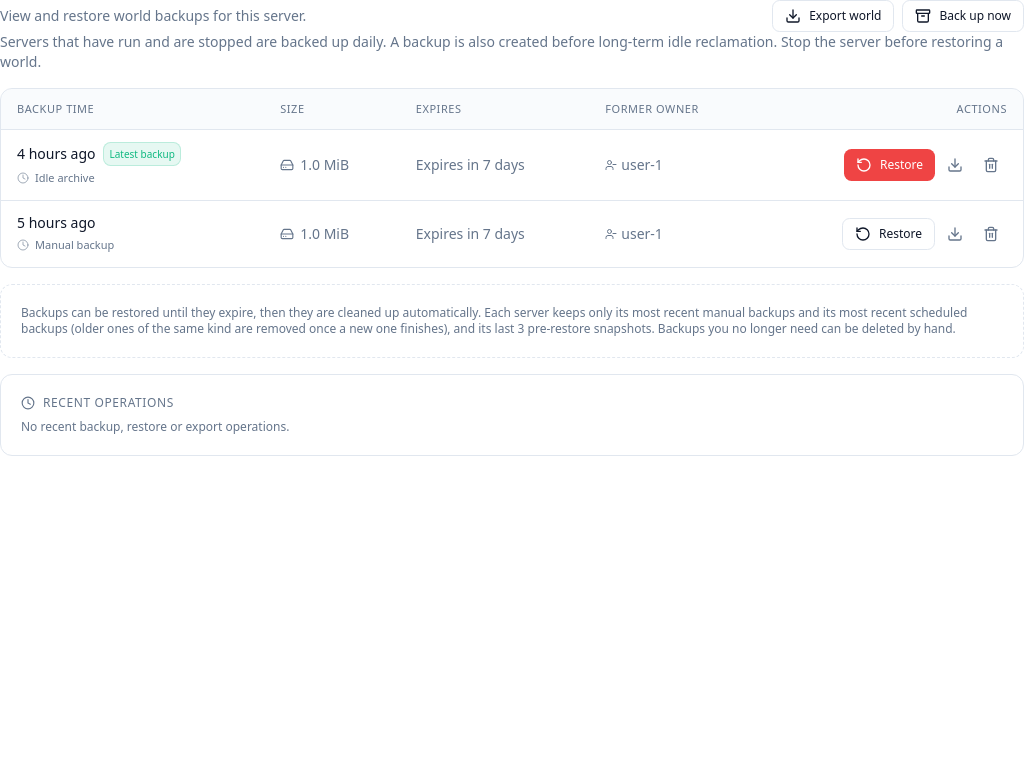
ServerBackups delete › warns that a inactive_15d archive may be the world's only copy
The image size is (1024, 768).
Expected: the text "4 hours ago" is shown, [17,144,96,164]
Click the button named "Delete backup" in the row of "4 hours ago" at (991, 165), box [975,149,1007,181]
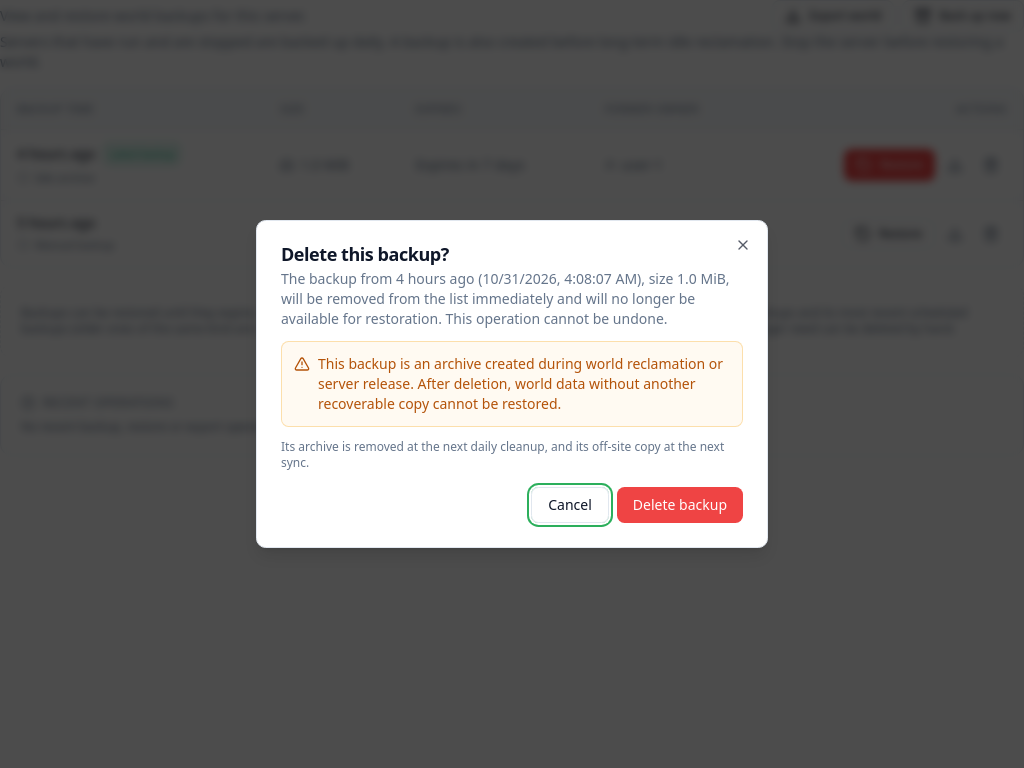
Result: the dialog is shown at [256,220,768,548]
Result: the text "This backup is an archive created during world reclamation or server release. After deletion, world data without another" is shown at [318,354,723,413]
